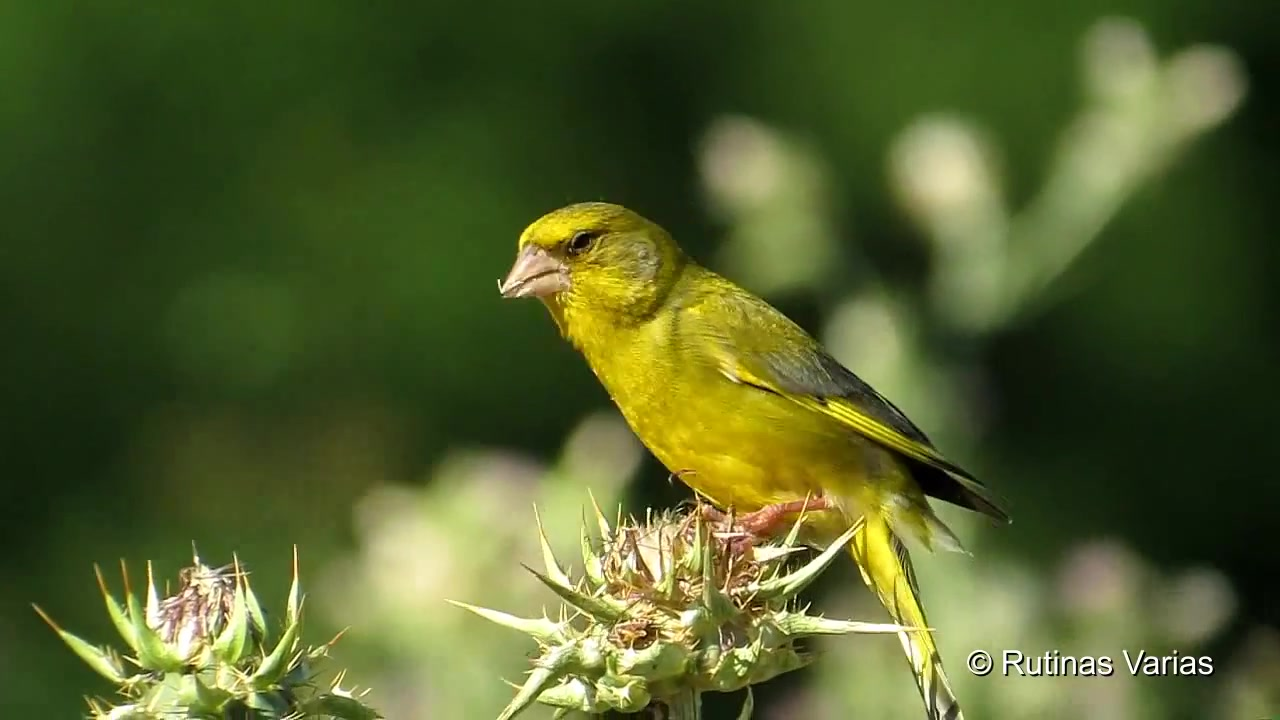bird: (496, 204, 1015, 720)
